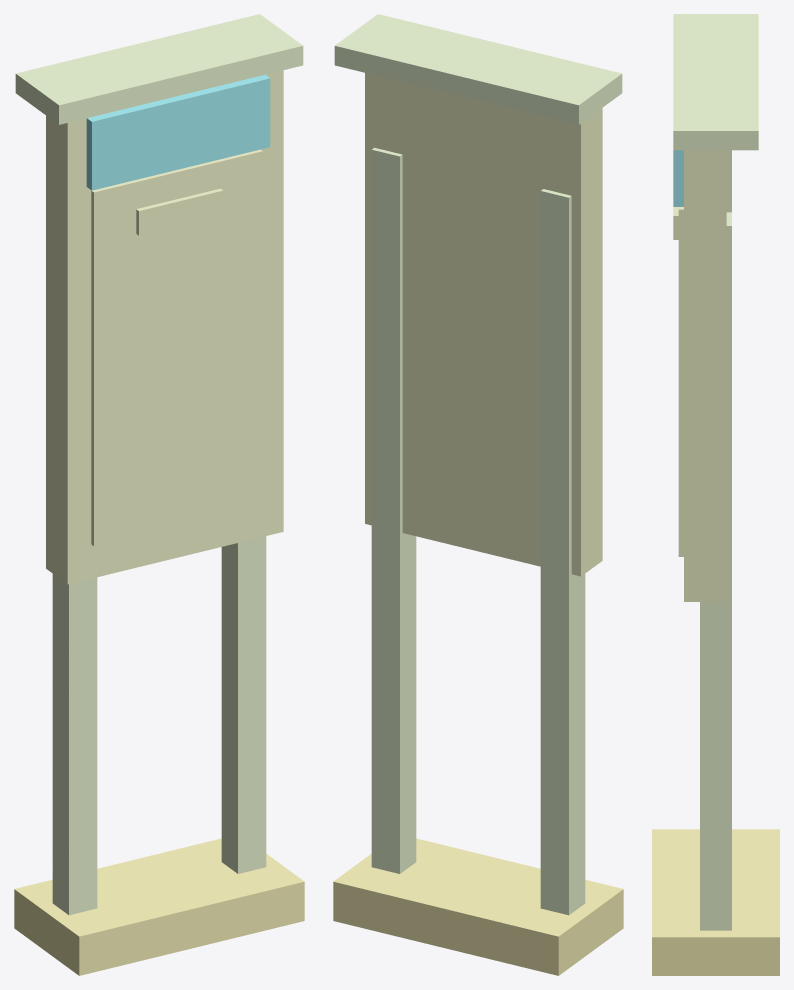
File: furniture_shelter_route_map_case.glb
The picture shows the model from 3 angles, left to right: view 1: azimuth 30°, elevation 25°; view 2: azimuth 150°, elevation 25°; view 3: azimuth 270°, elevation 25°; orthographic projection.
Visible parts, largest first — view 1: map_face, frame, base, hood, post_left, post_right, header, legend_strip; view 2: frame, post_left, post_right, base, hood; view 3: frame, base, post_right, hood, map_face, header, post_left.
Boxes of the visible parts, x1,y1,x2,y2 form: map_face: [91, 149, 262, 546]; frame: [46, 70, 283, 584]; base: [14, 838, 304, 975]; hood: [15, 14, 303, 124]; post_left: [52, 574, 97, 915]; post_right: [221, 536, 266, 873]; header: [86, 74, 270, 190]; legend_strip: [136, 188, 223, 235]; frame: [365, 73, 602, 576]; post_left: [540, 189, 585, 915]; post_right: [371, 147, 416, 873]; base: [333, 838, 623, 975]; hood: [334, 14, 622, 124]; frame: [684, 150, 726, 601]; base: [652, 829, 779, 975]; post_right: [700, 212, 731, 930]; hood: [673, 14, 758, 150]; map_face: [678, 207, 683, 556]; header: [673, 150, 683, 206]; post_left: [726, 150, 731, 212].
Bounding box in the file's own units: 0.52 × 1.76 × 0.24.
